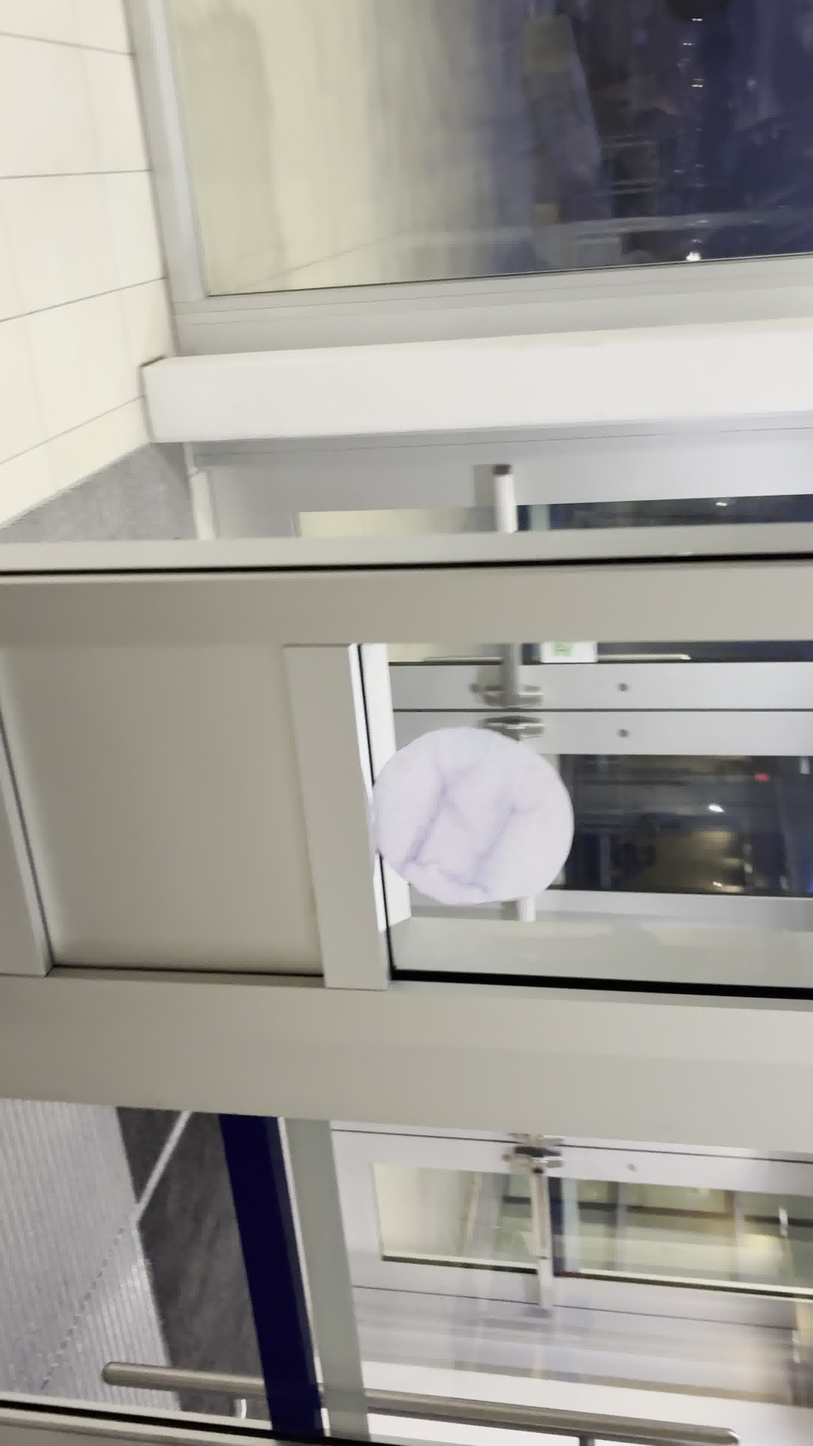Target: (364, 727, 578, 906)
